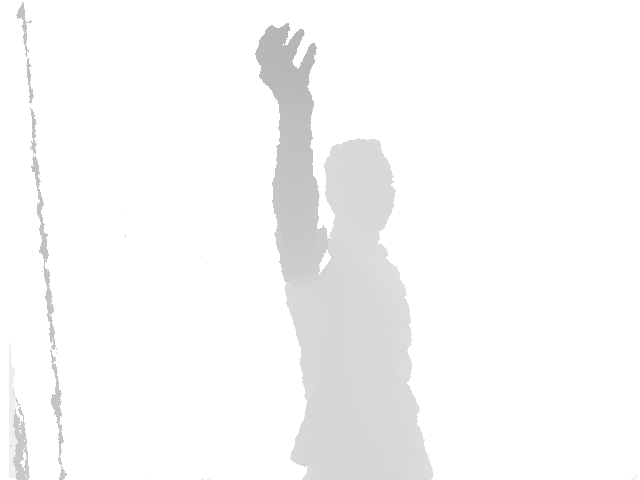hand: (254, 22, 318, 113)
head: (324, 139, 396, 237)
person: (254, 22, 434, 480)
